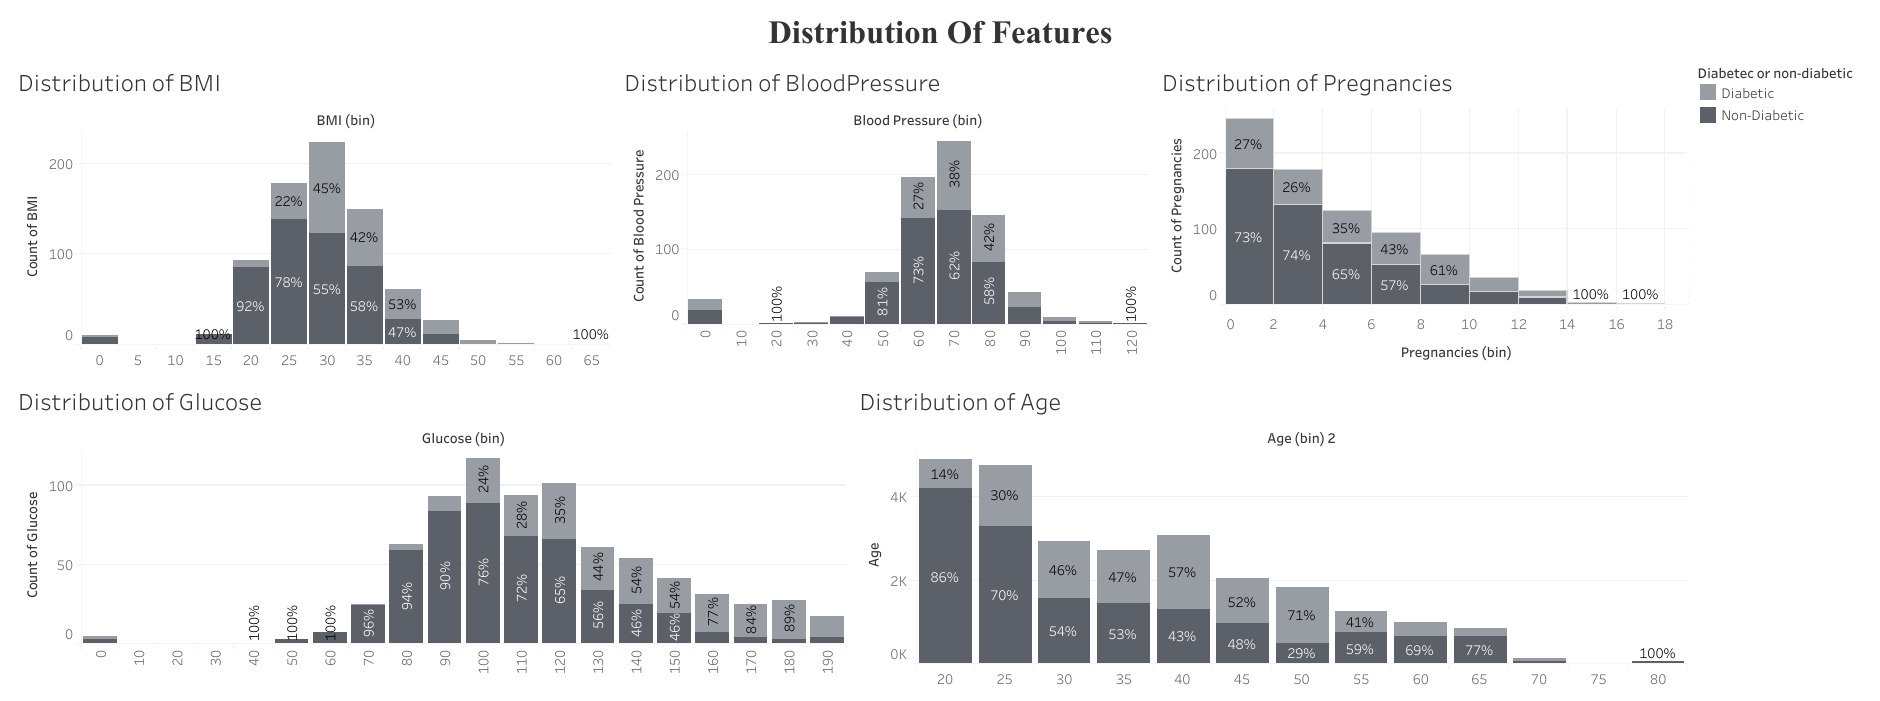

This screenshot's page, from the dashboard's own definition file:
{"tool":"tableau","page":{"name":"Dashboard 2","canvas":[1000,1000],"units":"permille","ordinal":0},"visuals":[{"type":"worksheet","box":[0,0,1000,1000]},{"type":"worksheet","param":"vert","box":[5,9.5,990.1,981]},{"type":"worksheet","box":[5,9.5,990.1,58.3]},{"type":"worksheet","param":"horz","box":[5,67.8,990.1,922.7]},{"type":"worksheet","box":[5,67.8,890.8,922.7]},{"type":"worksheet","title":"BMI_hist","mark":"Automatic","rows":["BMI"],"cols":["BMI (bin)"],"box":[5,67.8,320.7,461.4]},{"type":"worksheet","title":"BP_Hist","mark":"Automatic","rows":["BloodPressure"],"cols":["Blood Pressure (bin)"],"box":[325.7,67.8,285,461.4]},{"type":"worksheet","title":"Pregnancies_hist","mark":"Automatic","rows":["Pregnancies"],"cols":["Pregnancies (bin)"],"box":[610.7,67.8,285.1,461.4]},{"type":"worksheet","param":"vert","box":[895.8,67.8,99.3,922.7]},{"type":"worksheet","title":"BP_Hist","mark":"Automatic","rows":["BloodPressure"],"cols":["Blood Pressure (bin)"],"param":"[federated.0n1z64w0ic4gnw1goietv005ucen].[none:Calculation_2054767383709937664:n","box":[895.8,67.8,99.3,85.6]},{"type":"worksheet","title":"Glucose_hist","mark":"Automatic","rows":["Glucose"],"cols":["Glucose (bin)"],"box":[5,529.1,445.4,461.4]},{"type":"worksheet","title":"Age_hist","mark":"Automatic","rows":["Age"],"cols":["Age (bin) 2"],"box":[450.4,529.1,445.4,461.4]}]}

Visuals, with their boxes on the dashboard's canvas, which has no fixed pixel size, in thousandths of its width and height (x1, y1, x2, y2). These are canvas units, not pixel positions in the 1880x701 screenshot, which may show the page scaled, cropped or inside an application window:
worksheet: bbox(0, 0, 1000, 1000)
worksheet: bbox(5, 10, 995, 990)
worksheet: bbox(5, 10, 995, 68)
worksheet: bbox(5, 68, 995, 990)
worksheet: bbox(5, 68, 896, 990)
"BMI_hist" worksheet: bbox(5, 68, 326, 529)
"BP_Hist" worksheet: bbox(326, 68, 611, 529)
"Pregnancies_hist" worksheet: bbox(611, 68, 896, 529)
worksheet: bbox(896, 68, 995, 990)
"BP_Hist" worksheet: bbox(896, 68, 995, 153)
"Glucose_hist" worksheet: bbox(5, 529, 450, 990)
"Age_hist" worksheet: bbox(450, 529, 896, 990)
